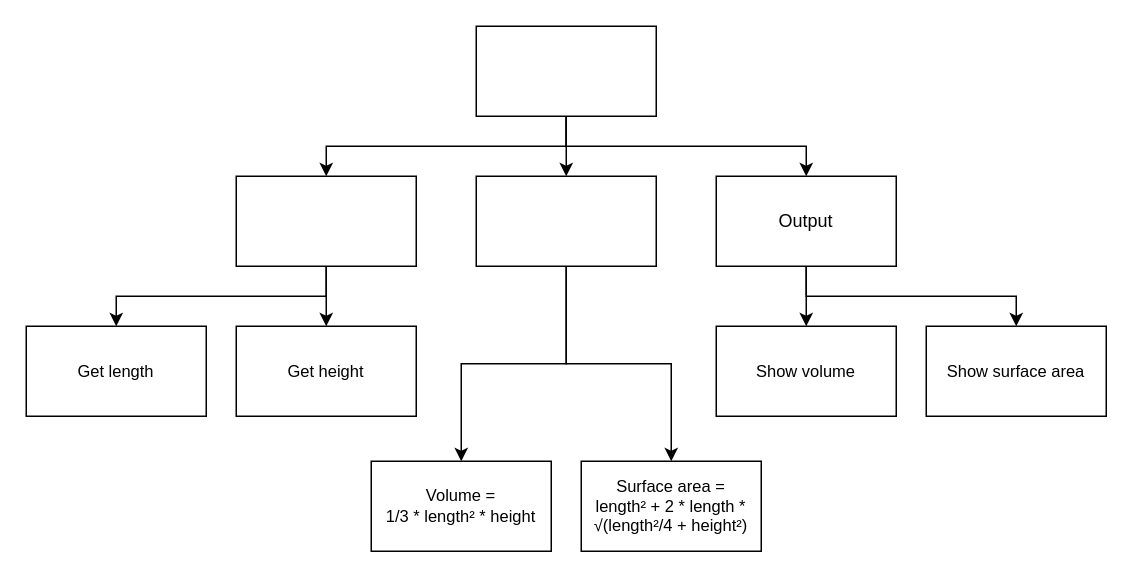
This 1133x578 diagram has some shape labels left out. Each missing label, with the box of its shape:
Input: (235, 175, 416, 266)
Process: (475, 175, 656, 266)
Square pyramid: (475, 25, 656, 116)
